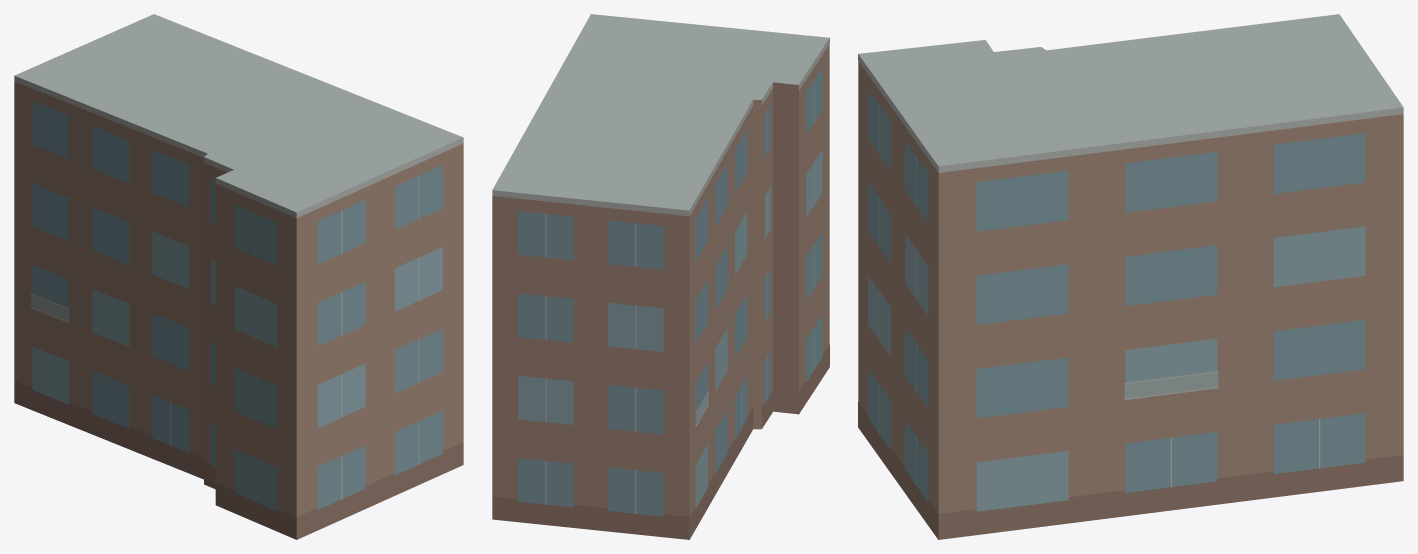
File: survey-upis-32920051.glb
3 renders of one model, left to right at view 1: azimuth 30°, elevation 25°; view 2: azimuth 150°, elevation 25°; view 3: azimuth 270°, elevation 25°, orthographic. The views are drawn at different scales.
Parts seen in each view (by area): view 1: survey-upis-32920051.tmp; view 2: survey-upis-32920051.tmp; view 3: survey-upis-32920051.tmp.
Part boxes in pixels (x1=…): survey-upis-32920051.tmp: x1=14, y1=14, x2=463, y2=539; survey-upis-32920051.tmp: x1=492, y1=14, x2=829, y2=539; survey-upis-32920051.tmp: x1=858, y1=14, x2=1403, y2=539.
Size of the model in its own units: 12.17 by 13.9 by 18.41.
